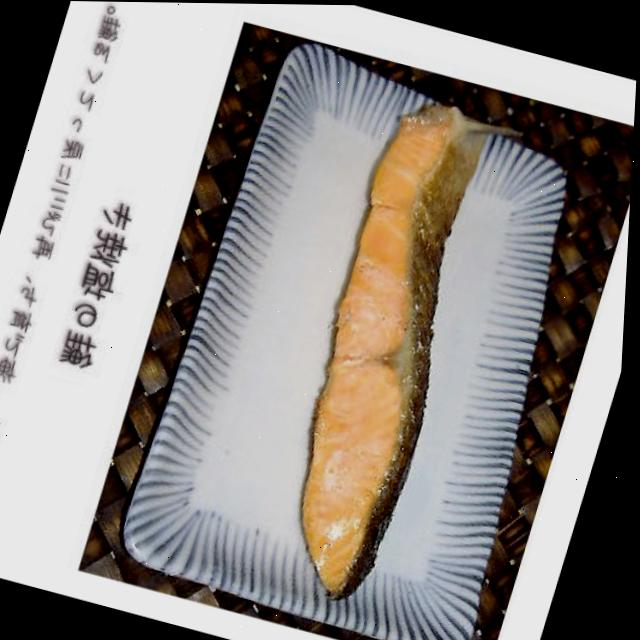熟制海鲜: (235, 74, 540, 632)
